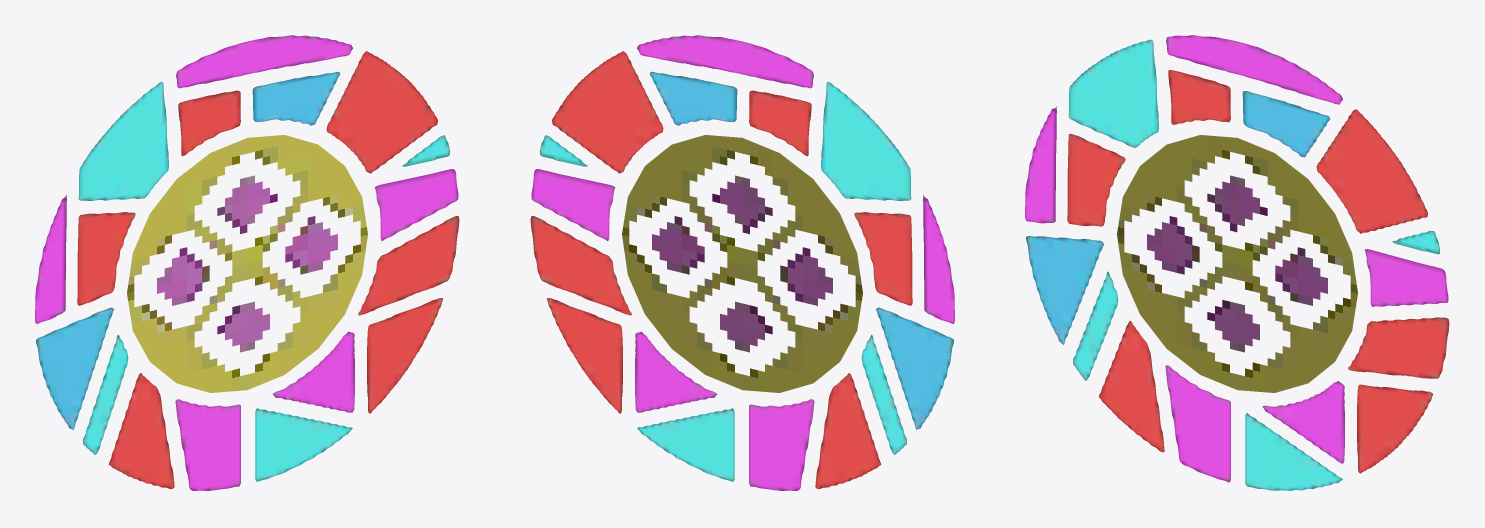
Rendered from rmk_oth_stainedglass.dae.
3 views of the same model, side by side, from view 1: azimuth 30°, elevation 25°; view 2: azimuth 150°, elevation 25°; view 3: azimuth 330°, elevation 25° (orthographic).
Visible parts, largest first — view 1: bs_j_0_0, bs_j_1_0; view 2: bs_j_0_0, bs_j_1_0; view 3: bs_j_0_0, bs_j_1_0.
Boxes of the visible parts, x1,y1,x2,y2 form: bs_j_0_0: (35,35,459,490); bs_j_1_0: (127,135,367,392); bs_j_0_0: (530,35,954,490); bs_j_1_0: (622,135,862,392); bs_j_0_0: (1025,35,1449,490); bs_j_1_0: (1117,135,1357,392).
Size of the model in its own units: 52.64 by 52.64 by 0.
Materials: 2 (2 with a texture image).
